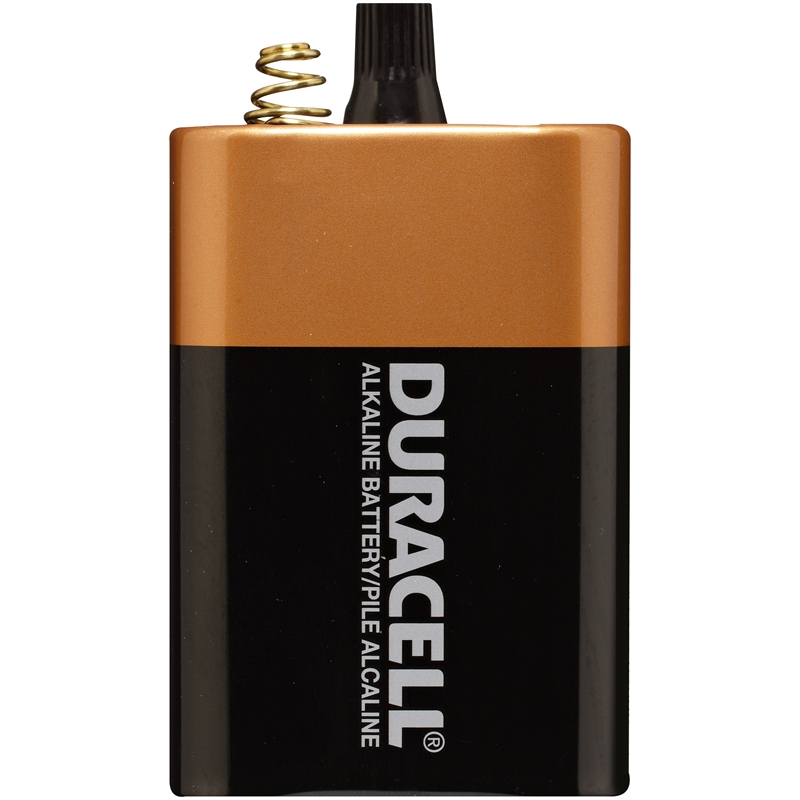6V: (154, 7, 658, 792)
